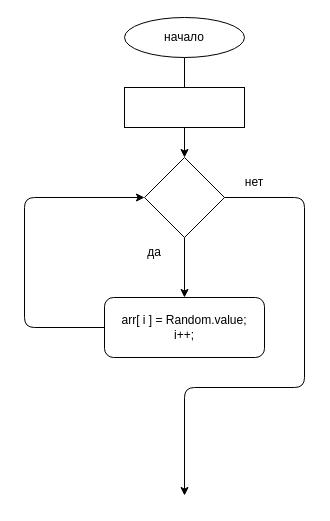
The diagram is 330 pixels wide and 521 high, and some of its shapes have lost their labels. Here are the shapes that lost their labels. From the top down, the centre of each, then its label:
At point 184,107: "arr[8]".
At point 184,197: "i<arr.length".
